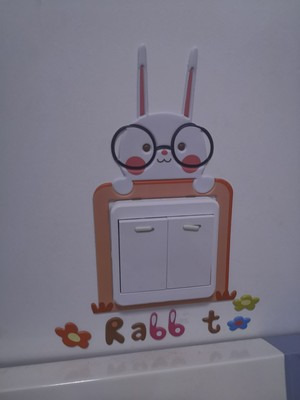switch: (119, 219, 162, 289), (171, 218, 215, 286)
